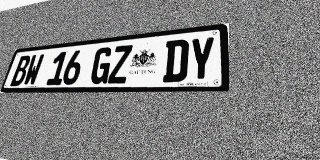1: (46, 51, 69, 85)
6: (61, 50, 85, 85)
B: (10, 55, 32, 86)
D: (162, 39, 189, 82)
G: (89, 47, 114, 84)
W: (22, 54, 45, 86)
Y: (187, 36, 215, 82)
Z: (107, 45, 133, 84)
